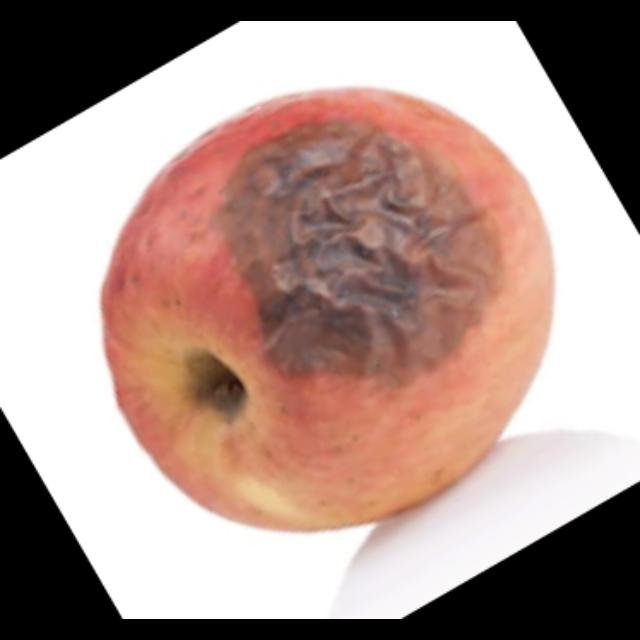Apel Tidak Segar: (105, 83, 553, 527)
